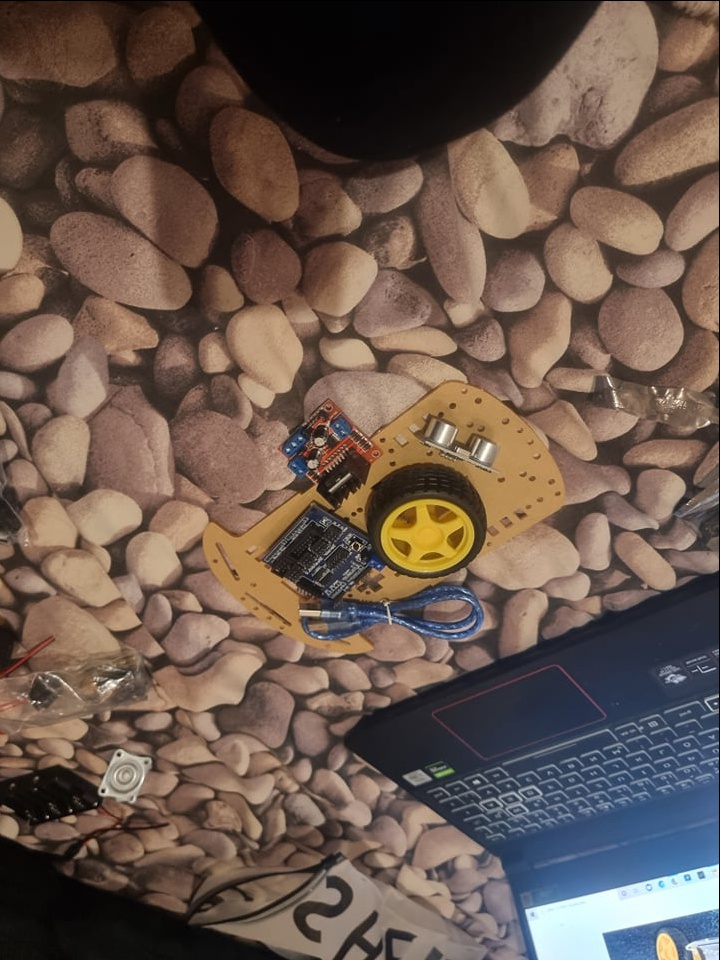5V EXPANSION: (262, 499, 386, 604)
BATTERY BOX: (1, 761, 103, 827)
MOTOR: (273, 399, 382, 507)
SENSOR: (420, 413, 502, 474)
